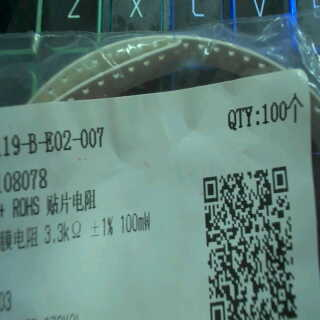3.3kO: (41, 215, 89, 254)
